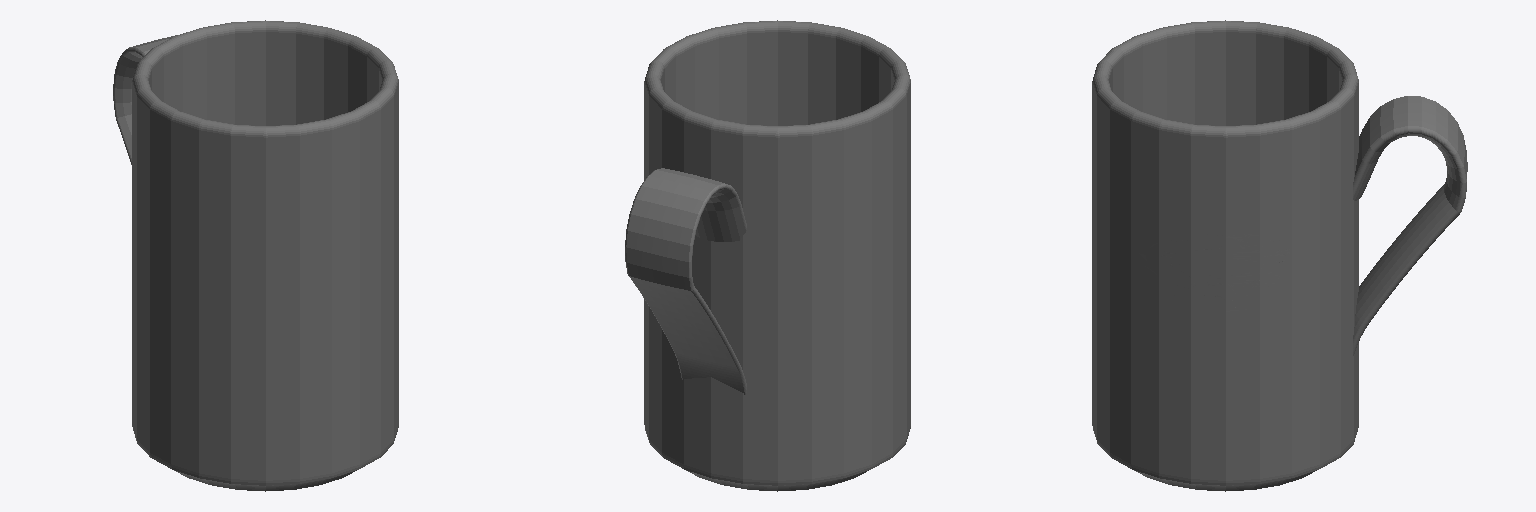
URDF robot description (object):
<?xml version="1.0"?>
<robot name="object">
  <link name="object">
    <visual>
      <origin xyz="0 0 0"/>
      <geometry>
        <mesh
          filename="../../mesh/oakink_virtual/mug_s168.stl" />
      </geometry>
      <material name="mat">
        <color rgba="0.5 0.5 0.5 1"/>
      </material>
    </visual>

    <collision>
      <origin xyz="0 0 0"/>
      <geometry>
        <mesh
          filename="../../mesh/oakink_virtual/mug_s168.stl" />
      </geometry>
    </collision>
  </link>
</robot>

--- Facts derived from the render (not from the file) ---
Views: 3 orthographic renders of the robot side by side, from view 1: azimuth 30°, elevation 25°; view 2: azimuth 150°, elevation 25°; view 3: azimuth 270°, elevation 25°.
Robot: object — 1 links, 0 joints (none); root link object; default pose: all joints at 0.
Visible links, largest first — view 1: object; view 2: object; view 3: object.
Link boxes in pixels (box(x1,y1,x2,y2)): object: box(113, 20, 398, 491); object: box(625, 20, 910, 491); object: box(1092, 20, 1467, 491).
Bounding box of the posed robot: 0.0816 × 0.1148 × 0.1251 m (x, y, z).
Meshes: 1 distinct files referenced, 1 mesh visuals loaded (1 binary STL).